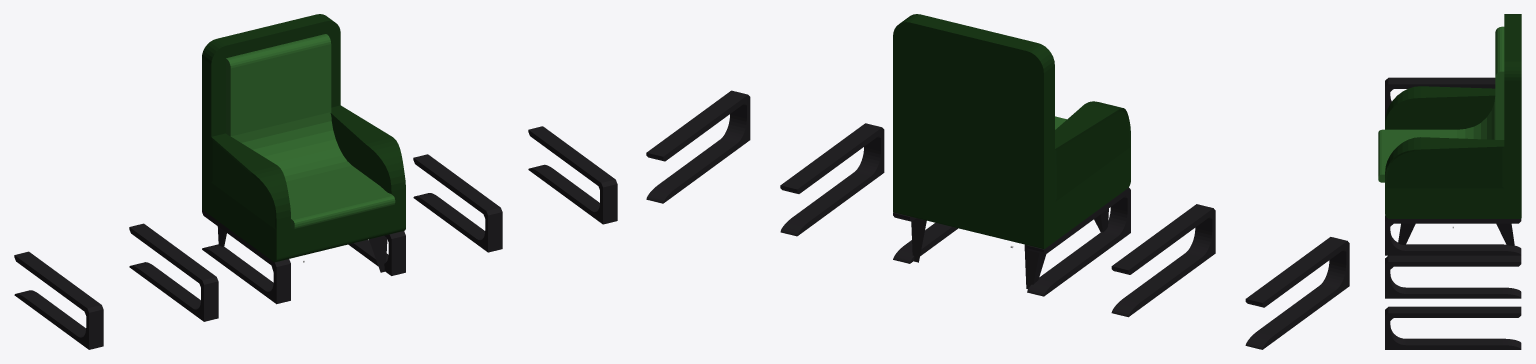
Rendered from chair100.glb.
The picture shows the model from 3 angles, left to right: view 1: azimuth 30°, elevation 25°; view 2: azimuth 150°, elevation 25°; view 3: azimuth 270°, elevation 25°; orthographic projection. The views are drawn at different scales.
Parts seen in each view (by area): view 1: Chair, Cushion, Legs1.001, Legs1, Legs1.003, Legs2; view 2: Chair, Legs1, Legs1.001, Legs1.003, Legs2; view 3: Chair, Legs1, Cushion, Legs1.003, Legs1.001, Legs2.
Part boxes in pixels (box(x1,y1,x2,y2)): Chair: box(202, 14, 405, 262); Cushion: box(226, 34, 395, 229); Legs1.001: box(14, 223, 218, 349); Legs1: box(413, 126, 617, 252); Legs1.003: box(202, 209, 405, 304); Legs2: box(217, 226, 387, 272); Chair: box(893, 14, 1130, 249); Legs1: box(646, 90, 884, 236); Legs1.001: box(1111, 204, 1349, 349); Legs1.003: box(893, 187, 1130, 296); Legs2: box(911, 208, 1108, 289); Chair: box(1385, 14, 1521, 218); Legs1: box(1385, 255, 1521, 349); Cushion: box(1378, 26, 1504, 182); Legs1.003: box(1385, 215, 1521, 255); Legs1.001: box(1385, 77, 1495, 120); Legs2: box(1398, 223, 1514, 245).
Size of the model in its own units: 8.17 by 3.08 by 2.1.
